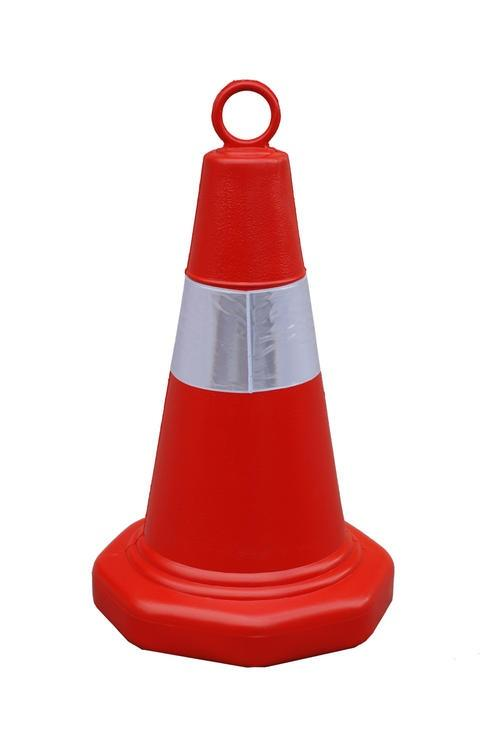cone_barrel: (121, 69, 378, 640)
